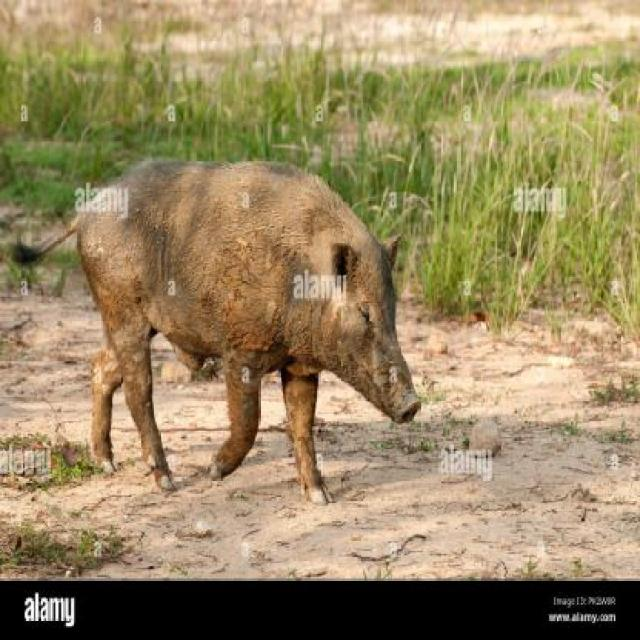wildboar: (7, 154, 419, 512)
